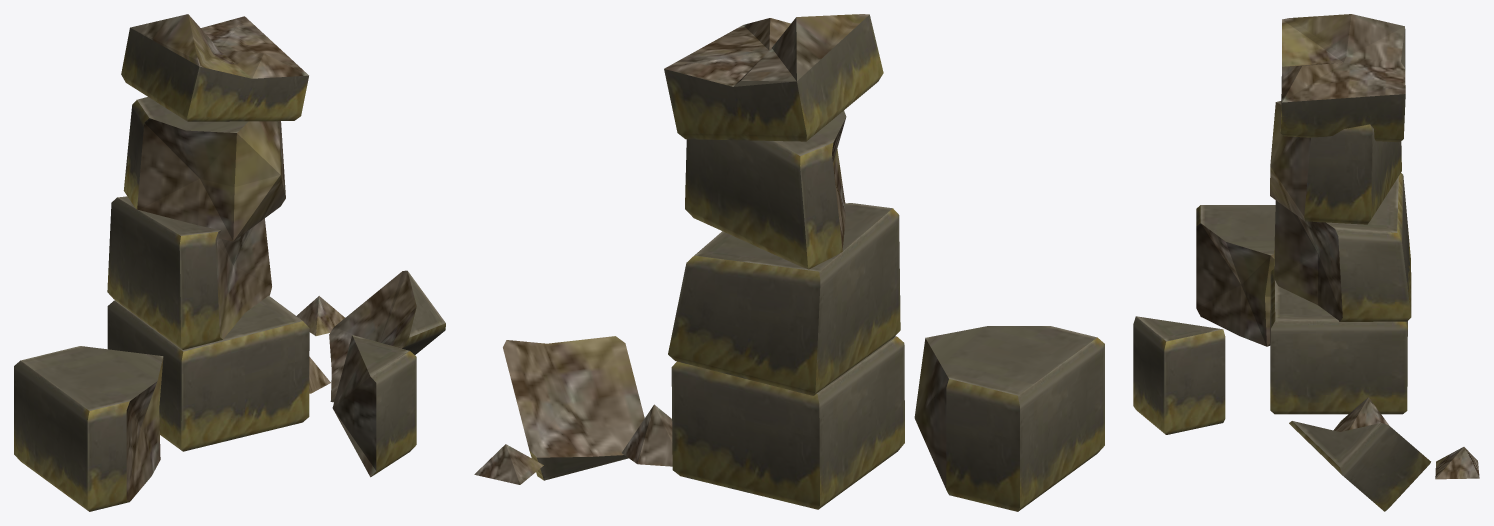
File: Battle05_Column_04.FBX
3 views of the same model, side by side, from view 1: azimuth 30°, elevation 25°; view 2: azimuth 150°, elevation 25°; view 3: azimuth 270°, elevation 25° (orthographic). The views are drawn at different scales.
Visible parts, largest first — view 1: Battle05_Column_04; view 2: Battle05_Column_04; view 3: Battle05_Column_04.
Part boxes in pixels (x1,y1,x2,y2): Battle05_Column_04: (14,14,445,511); Battle05_Column_04: (474,14,1104,511); Battle05_Column_04: (1133,14,1479,511).
Size of the model in its own units: 12.98 by 12.4 by 9.61.
